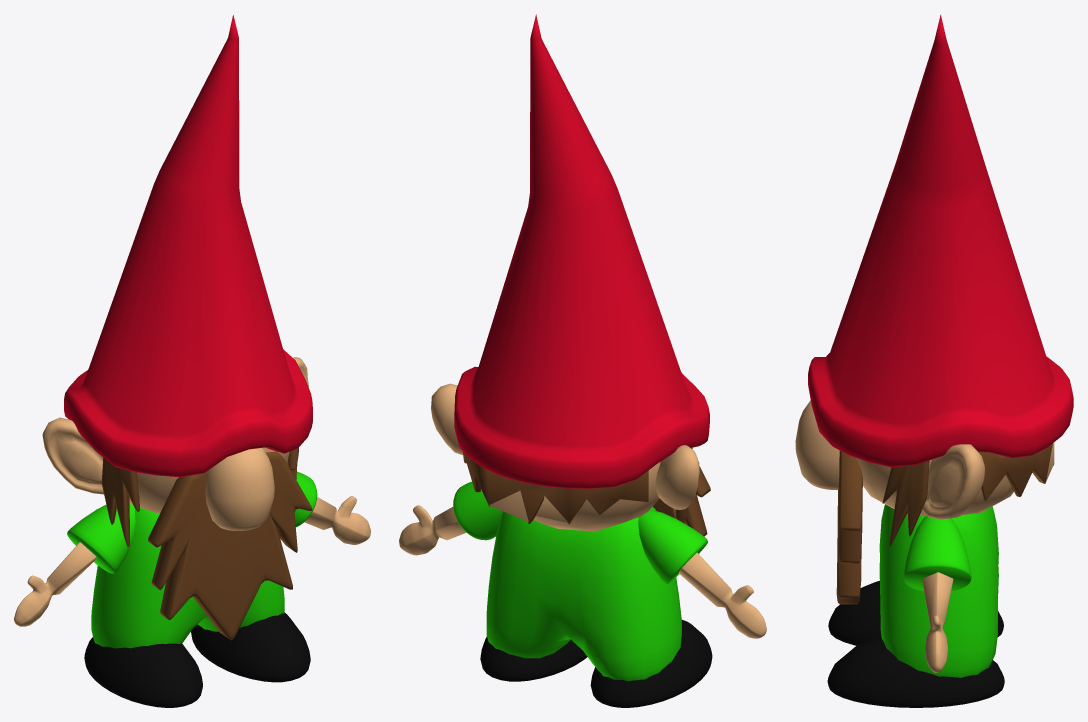
The model's file is gnomo.fbx.
The picture shows the model from 3 angles, left to right: view 1: azimuth 30°, elevation 25°; view 2: azimuth 150°, elevation 25°; view 3: azimuth 270°, elevation 25°; orthographic projection. The views are drawn at different scales.
Visible parts, largest first — view 1: Gnomo; view 2: Gnomo; view 3: Gnomo.
Part boxes in pixels (x1,y1,x2,y2): Gnomo: [14, 15, 370, 707]; Gnomo: [399, 14, 766, 707]; Gnomo: [795, 14, 1073, 707].
Bounding box in the file's own units: 35.53 × 60 × 22.54.
